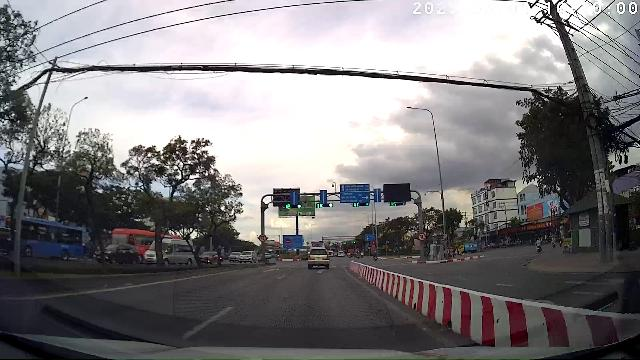124a-cam-quay-dau-xe: (418, 233, 426, 241), (260, 234, 266, 242)
